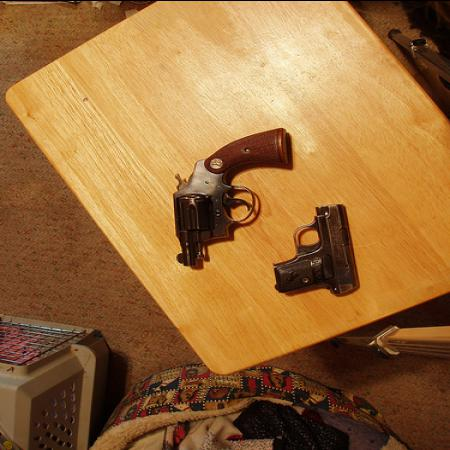Pistol: (172, 125, 288, 266), (271, 201, 359, 295)
